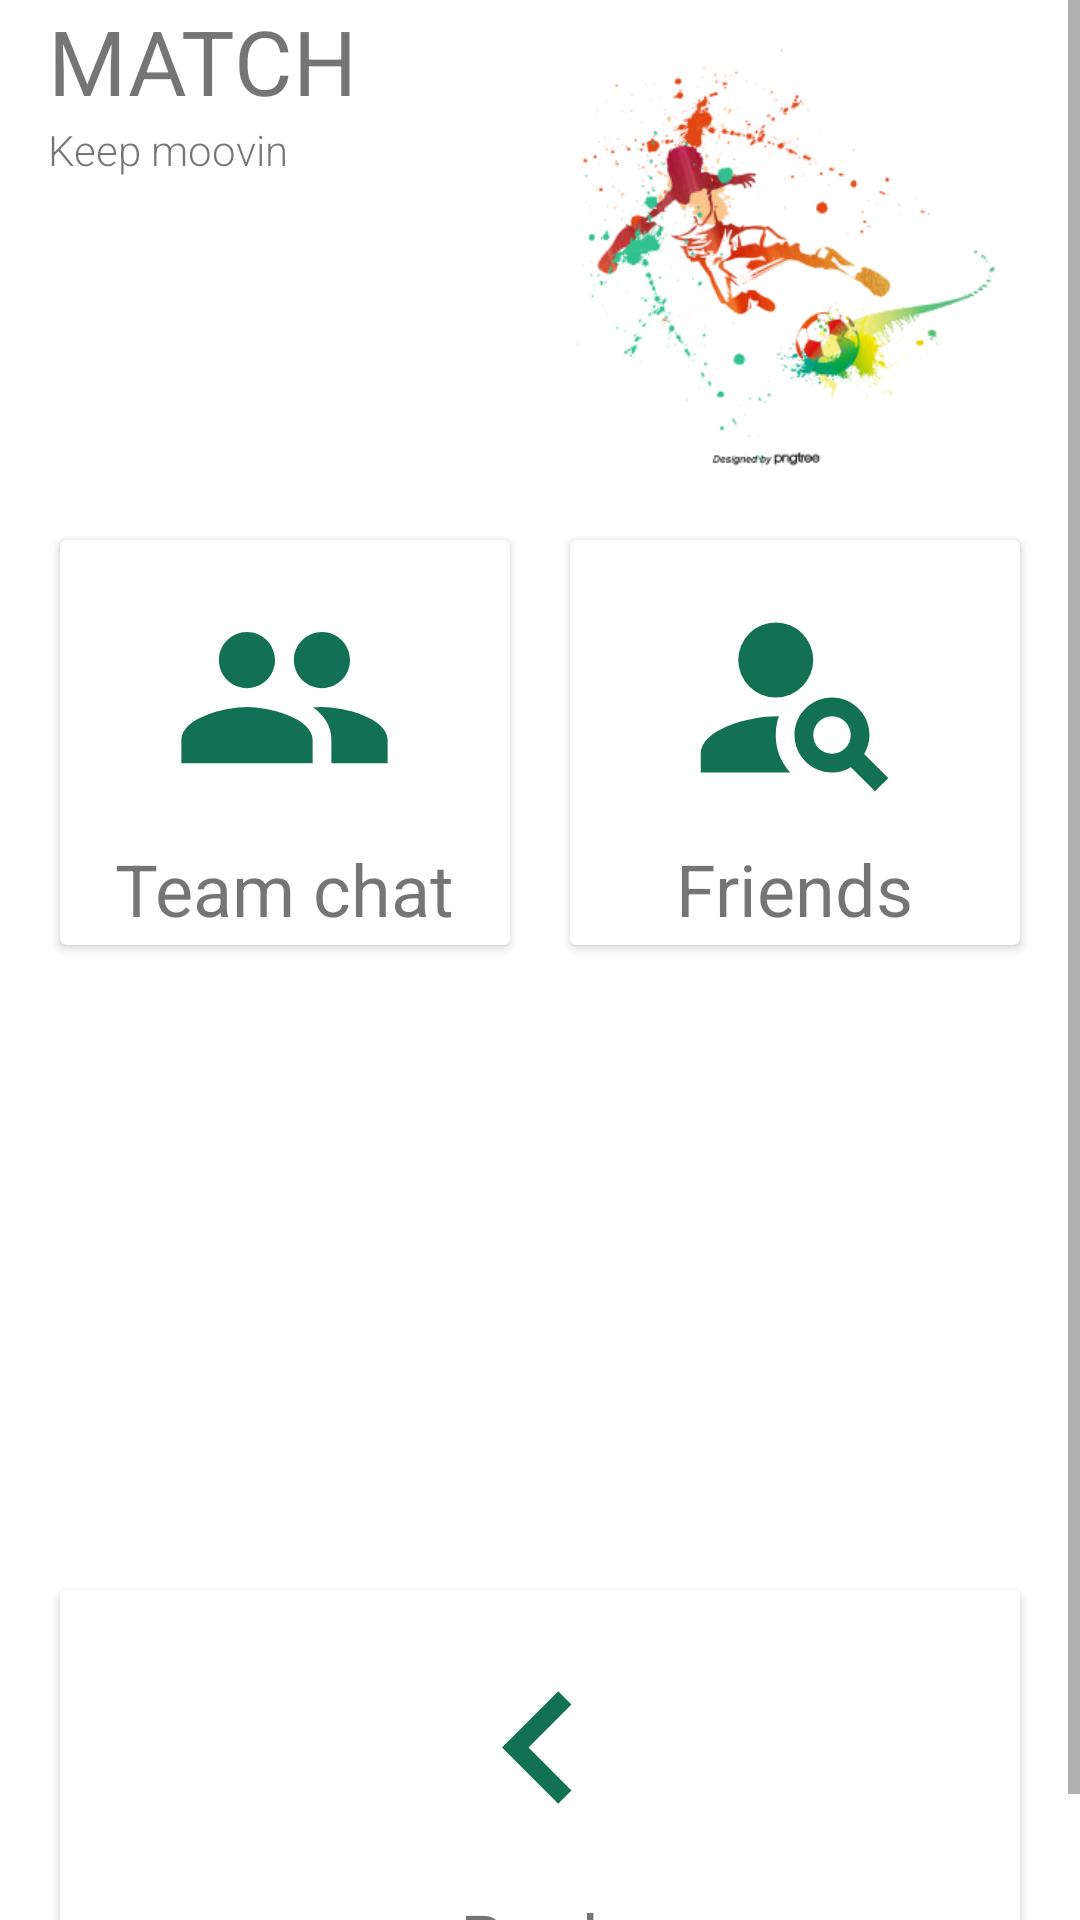

Icon bounding boxes for this 1080×1920 phone screenshot, format (x1,y1,x2,y2):
groupic: (181,632,388,764)
person search: (700,622,888,791)
